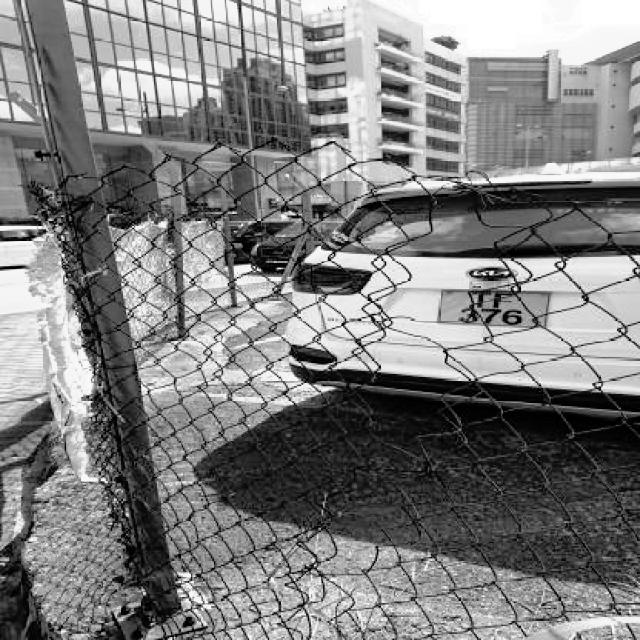anomaly-fence: (0, 100, 148, 640)
